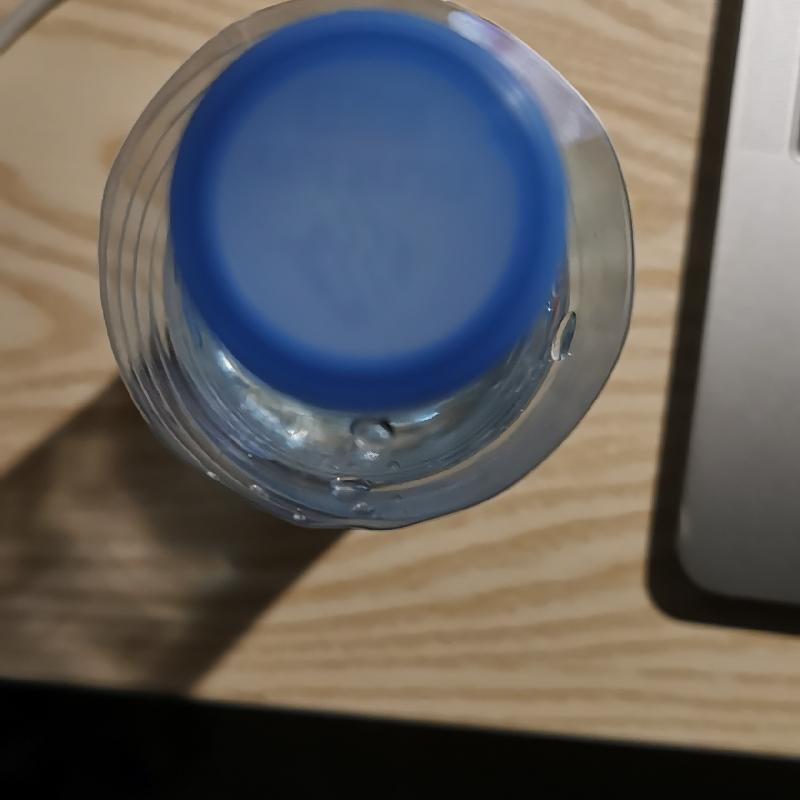bottles: (98, 1, 636, 534)
